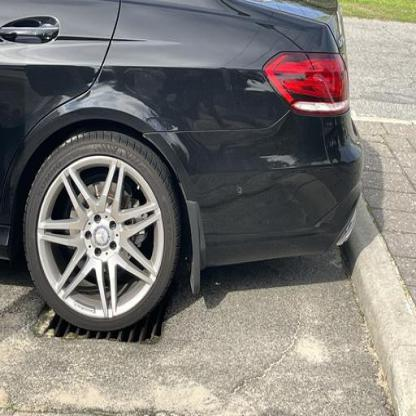Tire: (21, 130, 183, 332)
